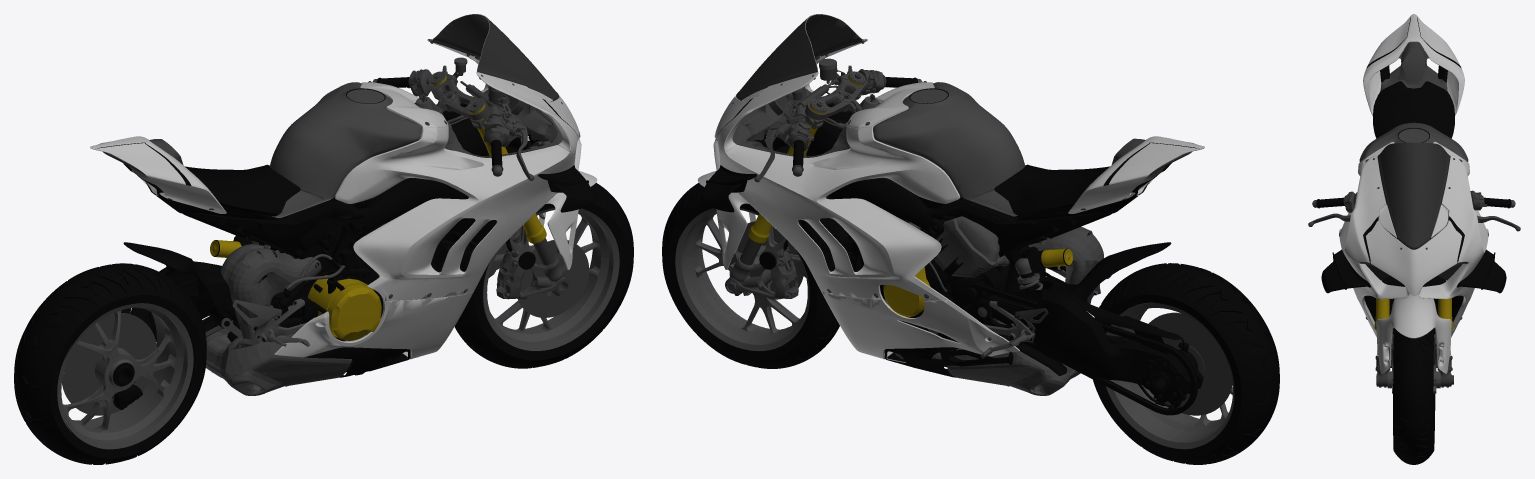
Rendered from ducati-panigale-v4r.glb.
3 views of the same model, side by side, from view 1: azimuth 30°, elevation 25°; view 2: azimuth 150°, elevation 25°; view 3: azimuth 270°, elevation 25° (orthographic). The views are drawn at different scales.
Visible parts, largest first — view 1: body, wheel_rear_mesh, wheel_front_mesh; view 2: body, wheel_rear_mesh, wheel_front_mesh; view 3: body, wheel_front_mesh.
Part boxes in pixels (bbox=[...]): body: bbox=[63, 14, 597, 409]; wheel_rear_mesh: bbox=[14, 263, 206, 464]; wheel_front_mesh: bbox=[454, 183, 633, 368]; body: bbox=[697, 14, 1204, 415]; wheel_rear_mesh: bbox=[1093, 263, 1279, 464]; wheel_front_mesh: bbox=[662, 183, 839, 368]; body: bbox=[1308, 14, 1520, 386]; wheel_front_mesh: bbox=[1376, 328, 1453, 464].
Size of the model in its own units: 2.1 by 1.19 by 0.7827.
